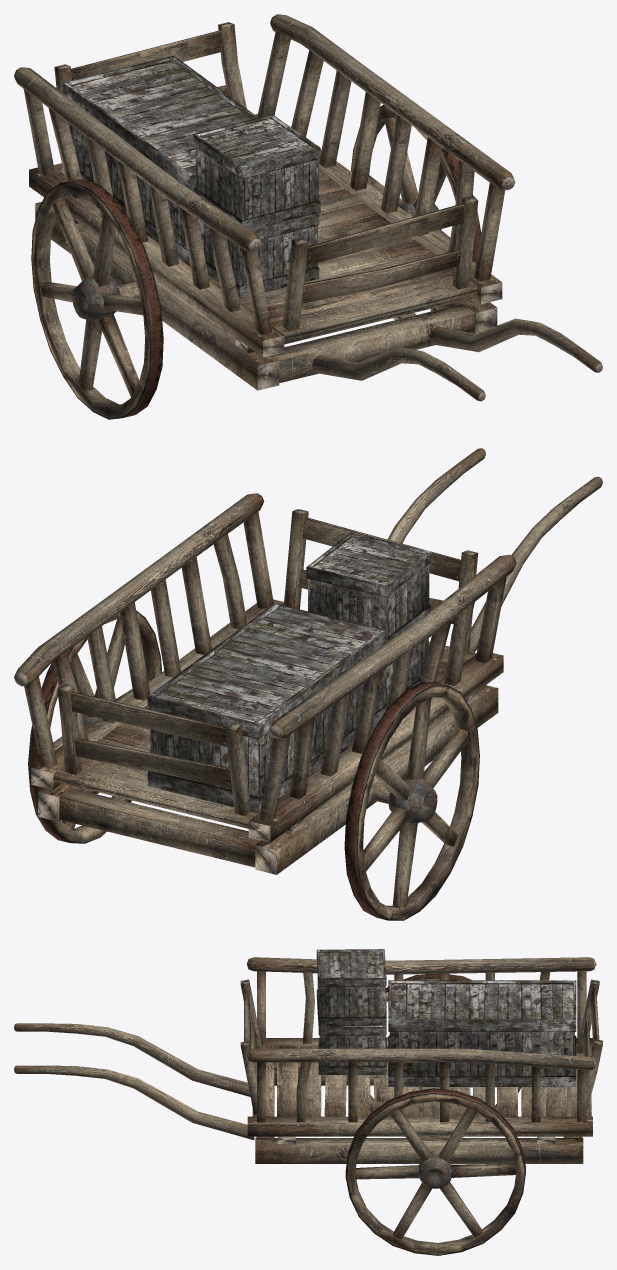
Rendered from cart.glb.
3 renders of one model, top to bottom at view 1: azimuth 30°, elevation 25°; view 2: azimuth 150°, elevation 25°; view 3: azimuth 270°, elevation 25°, orthographic. The views are drawn at different scales.
Visible parts, largest first — view 1: cart; view 2: cart; view 3: cart.
Boxes of the visible parts, <box> form: cart: <box>14,14,602,419</box>; cart: <box>14,448,602,920</box>; cart: <box>14,949,602,1255</box>.
Bounding box in the file's own units: 9.15 × 7.11 × 17.91.
Materials: 3 (3 with a texture image).
